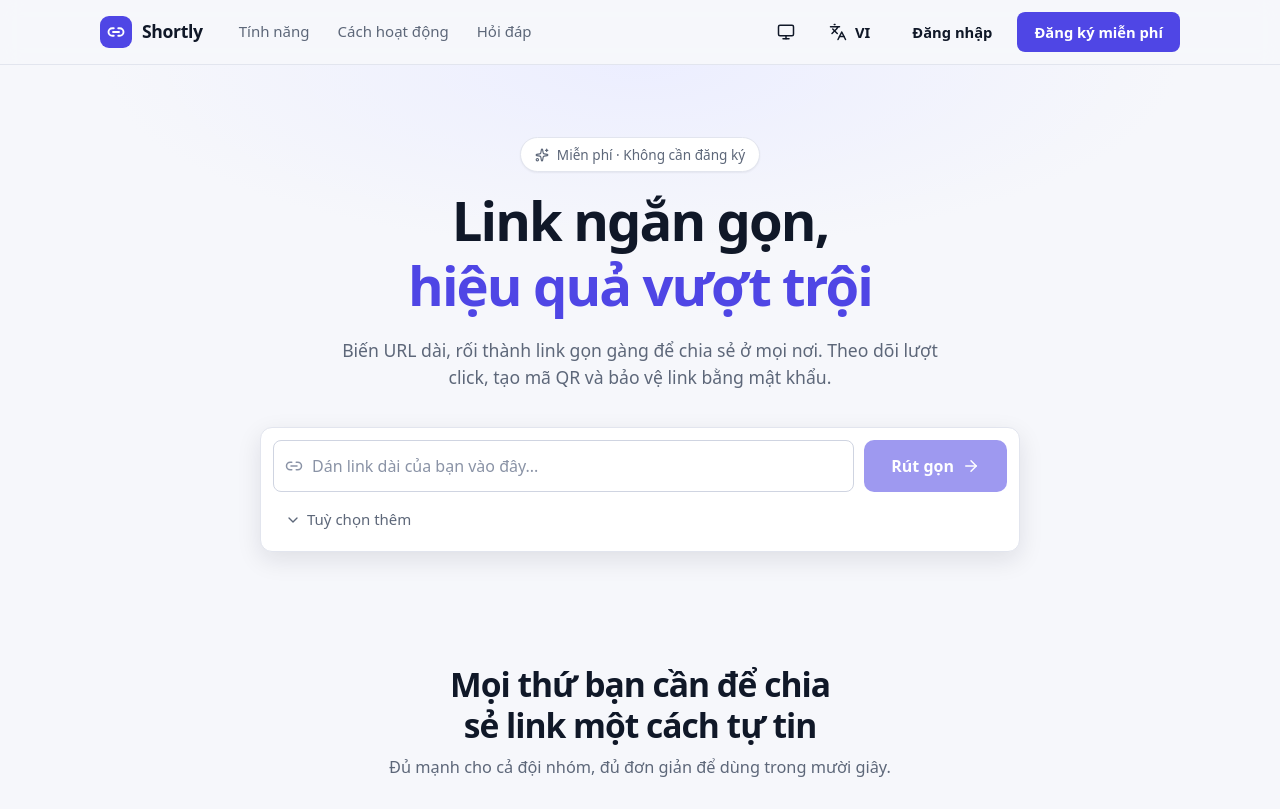
Test case: hạn dùng khi máy chủ và người dùng khác múi giờ › trang chủ: giờ người dùng nhập (UTC+7) được gửi lên theo giờ máy chủ (UTC)
The image size is (1280, 809).
Type "https://example.com/x" into the field named "Link cần rút gọn".
click(564, 466); type("https://example.com/x")  # box [273,440,854,492]
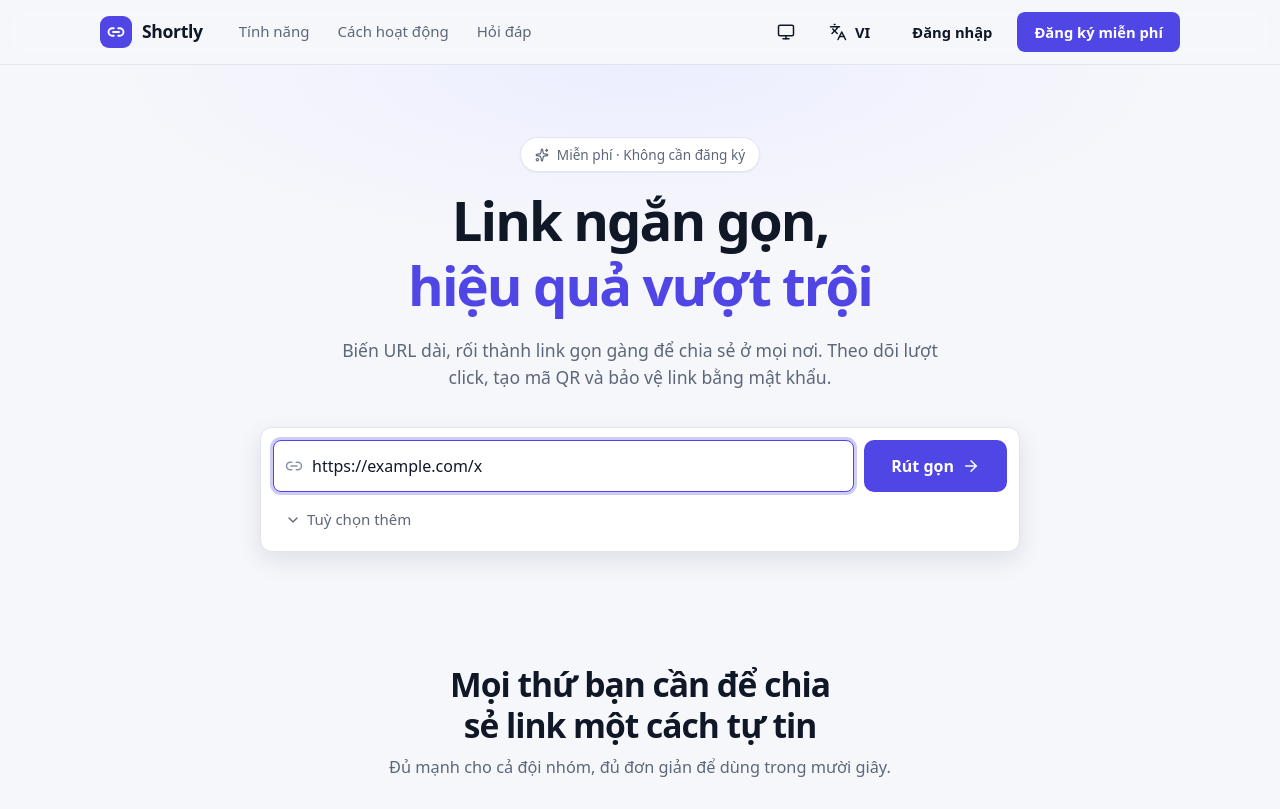
Click the button "Tuỳ chọn thêm".
click(348, 520)  # box [279,504,417,536]
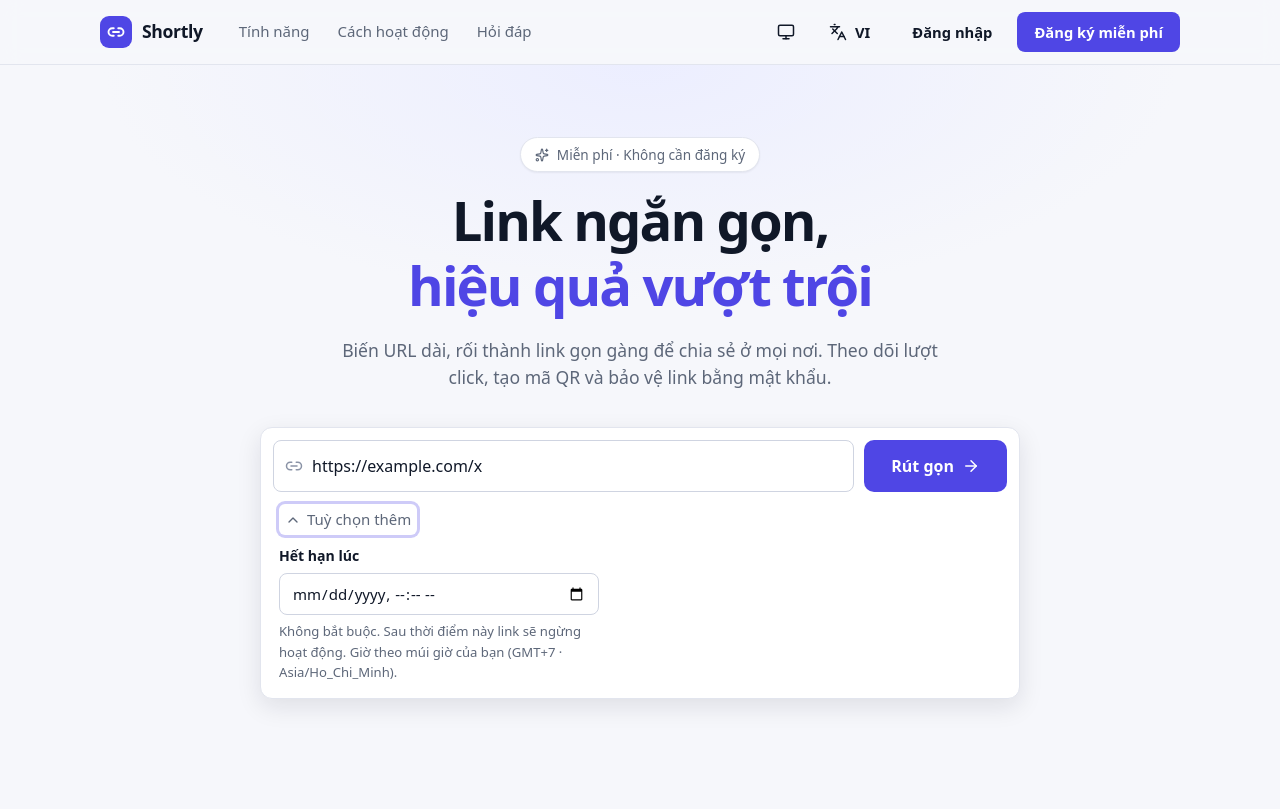
Type "2030-01-02T10:04" into the field labelled "Hết hạn lúc".
click(439, 594); type("2030-01-02T10:04")  # box [279,573,599,615]
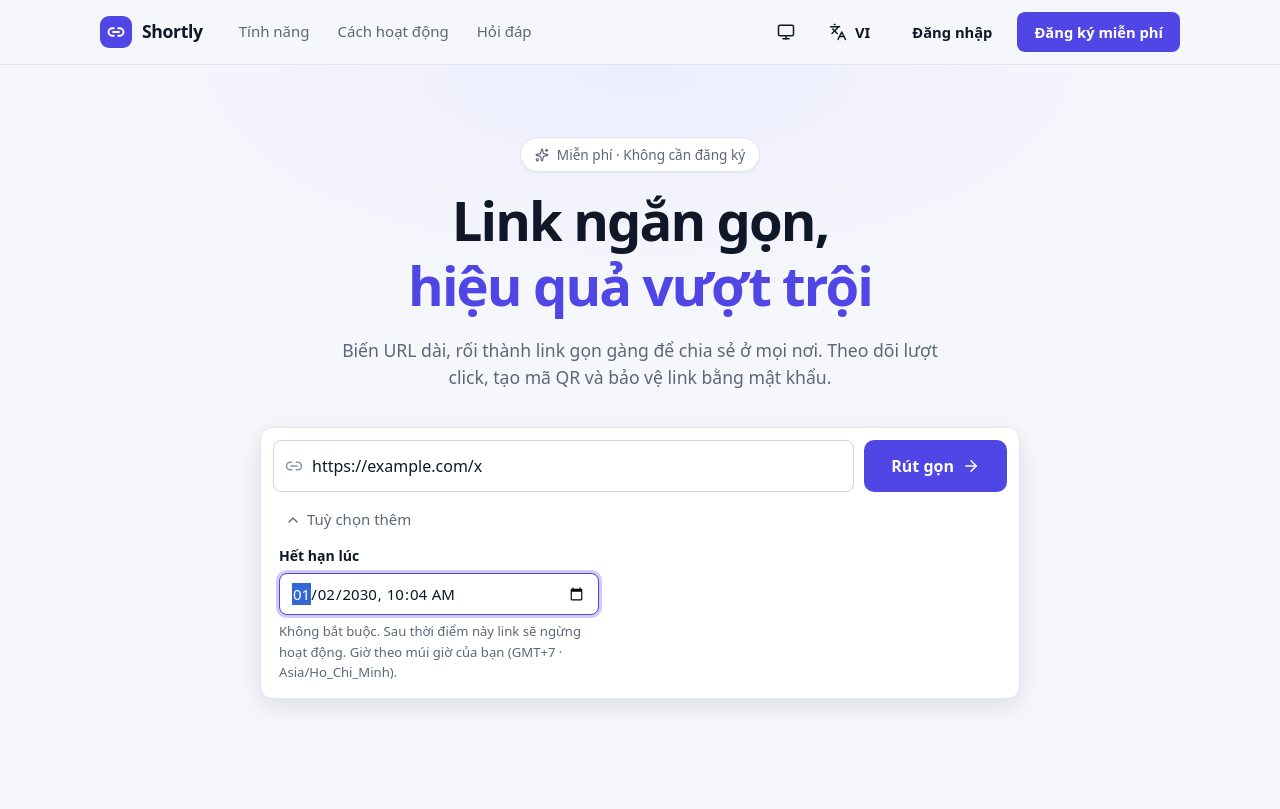
Click the button "Rút gọn".
click(936, 466)  # box [864,440,1007,492]
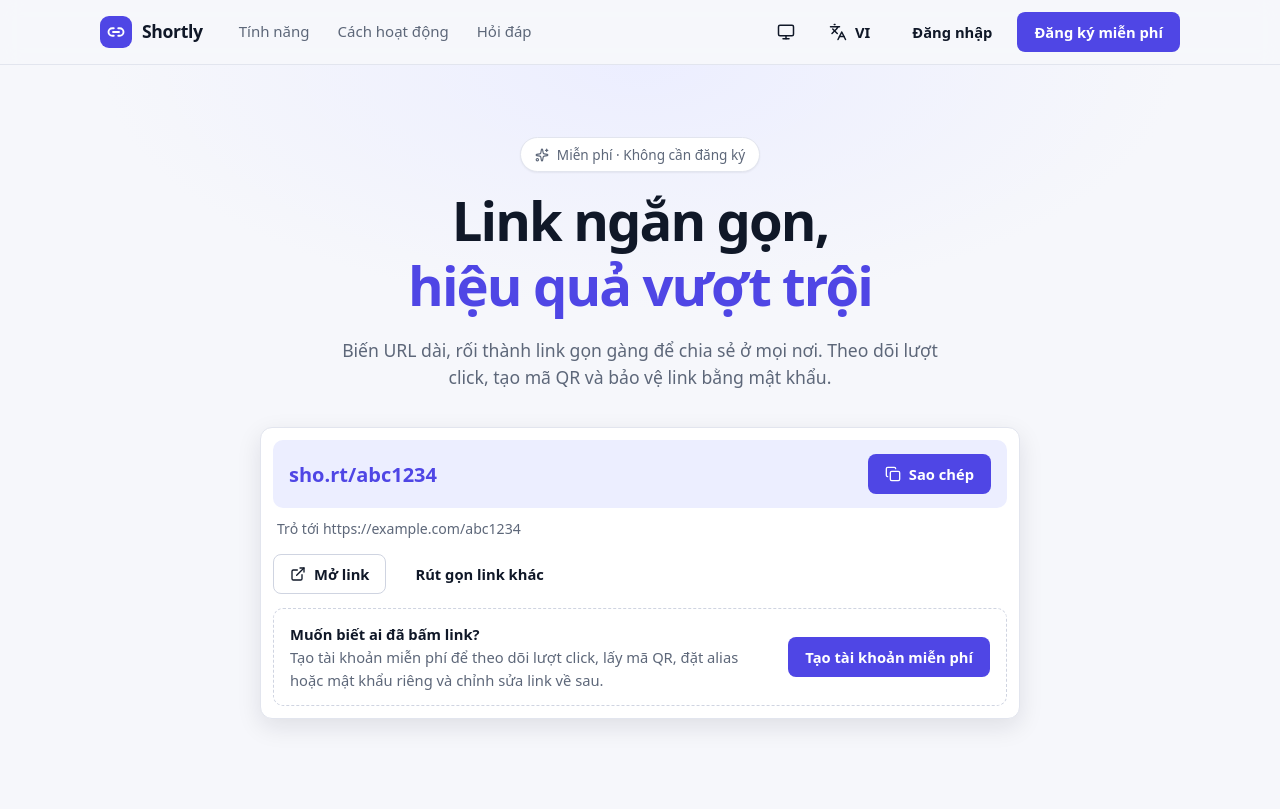
Expected: the link "sho.rt/abc1234" is shown, [289,459,437,490]
